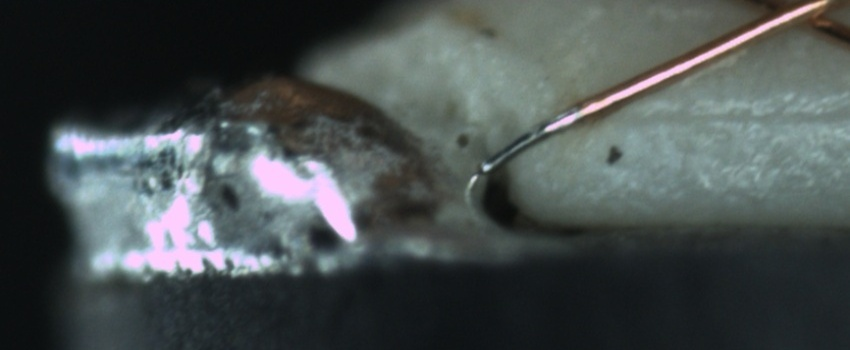CL: (732, 1, 846, 40)
DL: (615, 80, 845, 149)
TS: (474, 106, 583, 175)
TTCW: (475, 87, 614, 176)
